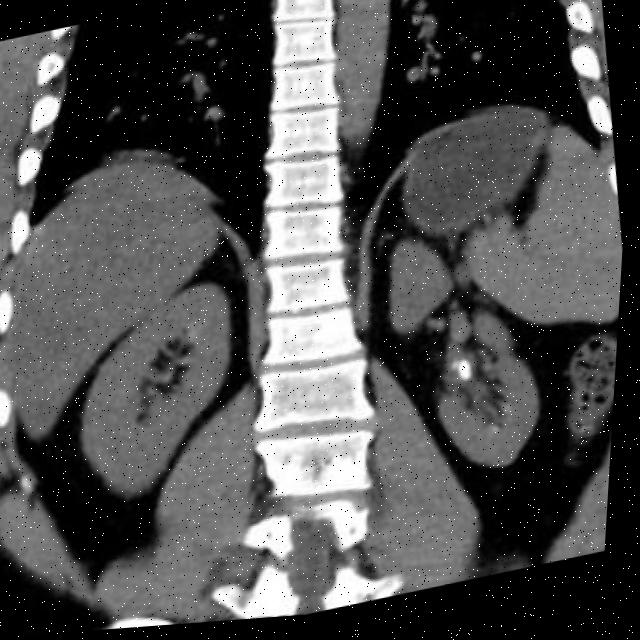Tas_Var: (458, 364, 477, 391)
